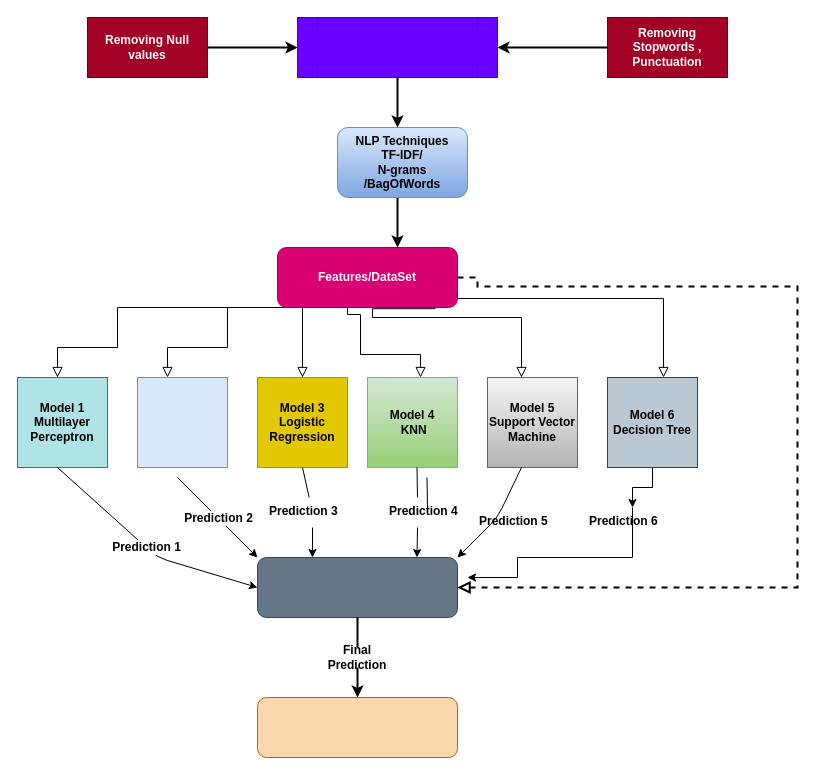
Image size: 826x775. Some labels were removed from this diagram. Each missing label, with the box of its shape:
Model 2 Random Forest: (136, 376, 228, 468)
Output Sentiment class Predicted: (256, 696, 458, 758)
Preprocessing Data: (296, 16, 498, 78)
Stacking Meta-Model: (256, 556, 458, 618)
